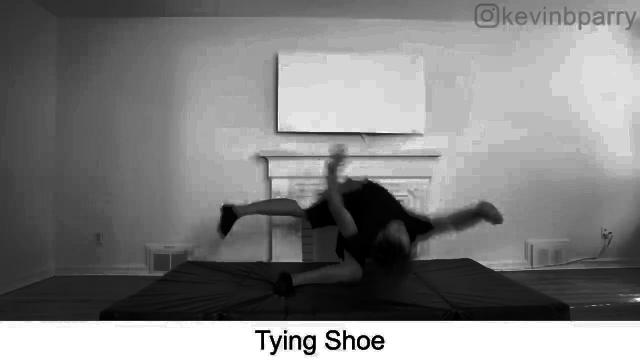jatuh: (212, 138, 510, 304)
